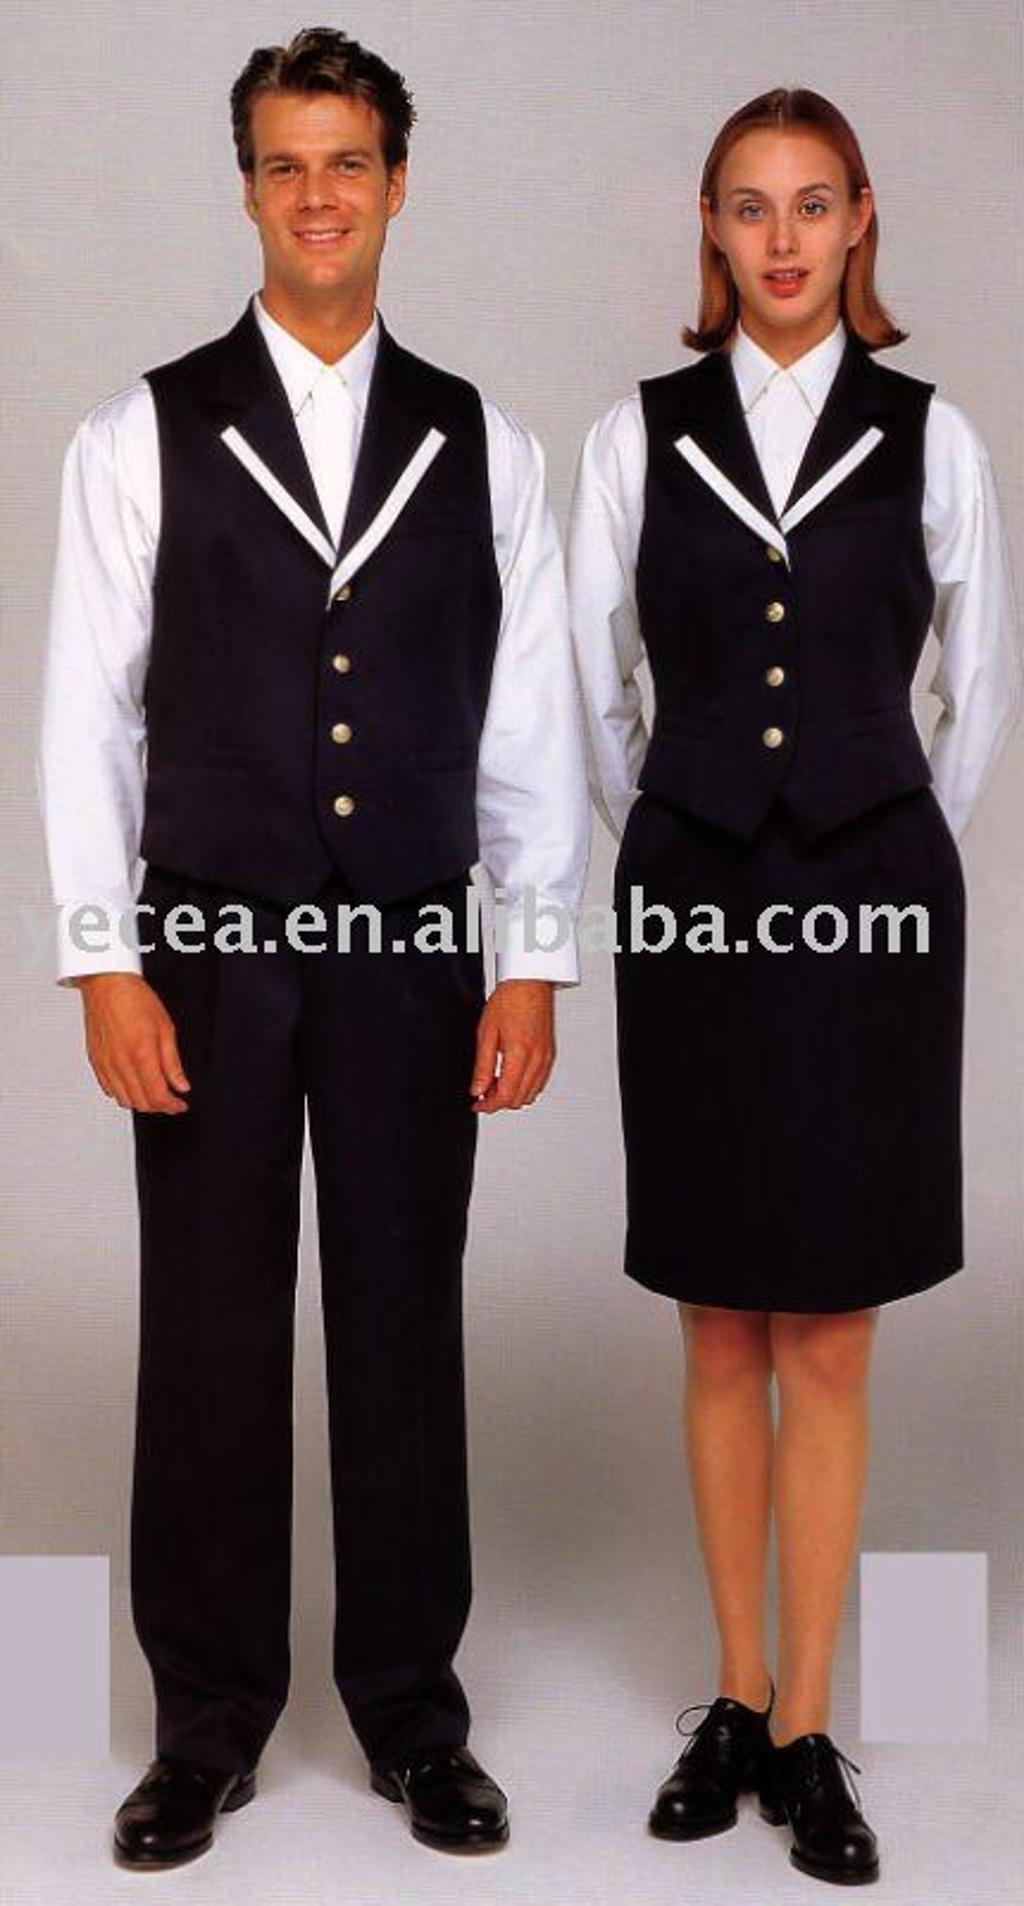face: (249, 86, 387, 287), (719, 127, 849, 328)
